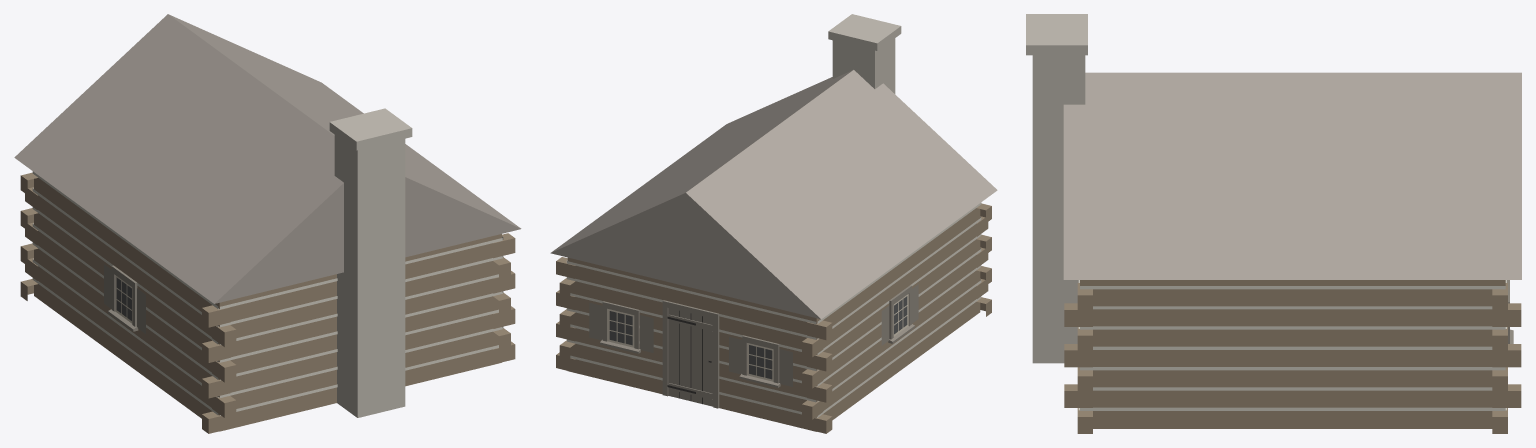
The model's file is recon_1835_blk_south_water_franklin_d1_04__inferred_1835.glb.
The picture shows the model from 3 angles, left to right: view 1: azimuth 30°, elevation 25°; view 2: azimuth 150°, elevation 25°; view 3: azimuth 270°, elevation 25°; orthographic projection. The views are drawn at different scales.
Parts seen in each view (by area): view 1: recon_1835_blk_south_water_franklin_d1_04__inferred_1835; view 2: recon_1835_blk_south_water_franklin_d1_04__inferred_1835; view 3: recon_1835_blk_south_water_franklin_d1_04__inferred_1835.
Boxes of the visible parts, x1,y1,x2,y2 form: recon_1835_blk_south_water_franklin_d1_04__inferred_1835: (14, 14, 521, 433); recon_1835_blk_south_water_franklin_d1_04__inferred_1835: (550, 14, 997, 433); recon_1835_blk_south_water_franklin_d1_04__inferred_1835: (1026, 14, 1521, 433).
Bounding box in the file's own units: 6.18 × 5.37 × 7.53.
